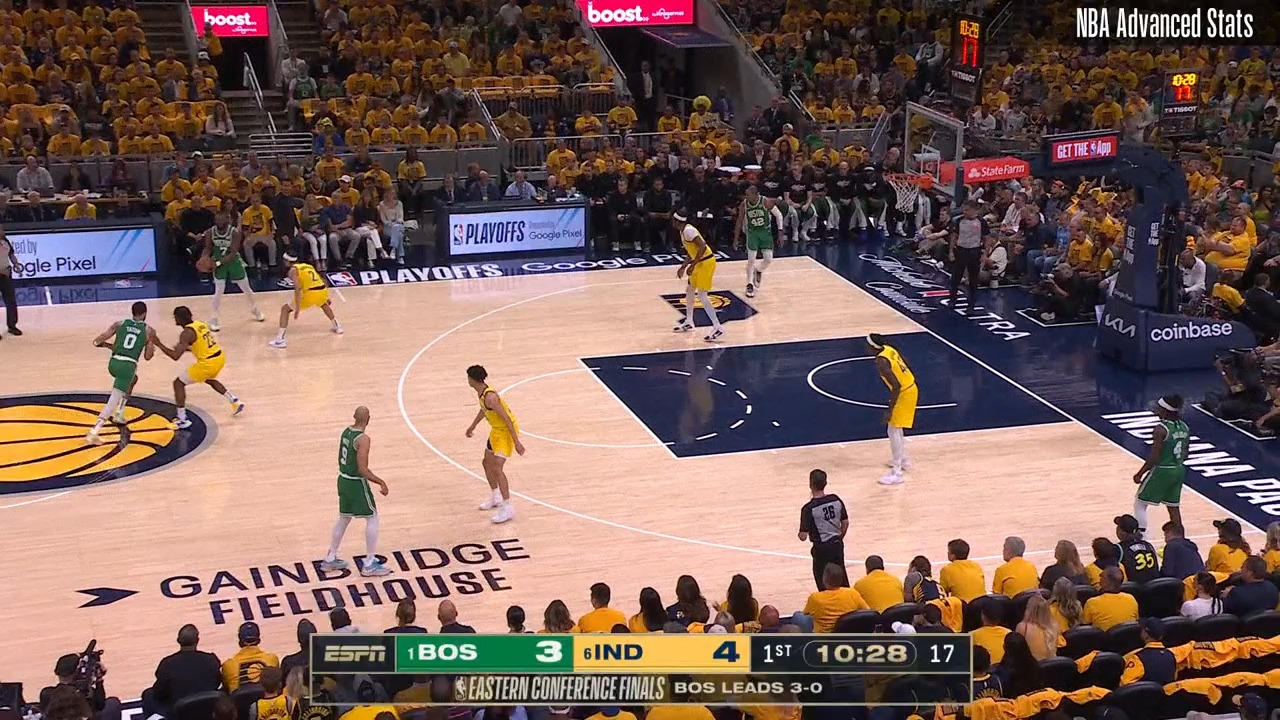basketball: (193, 253, 216, 280)
